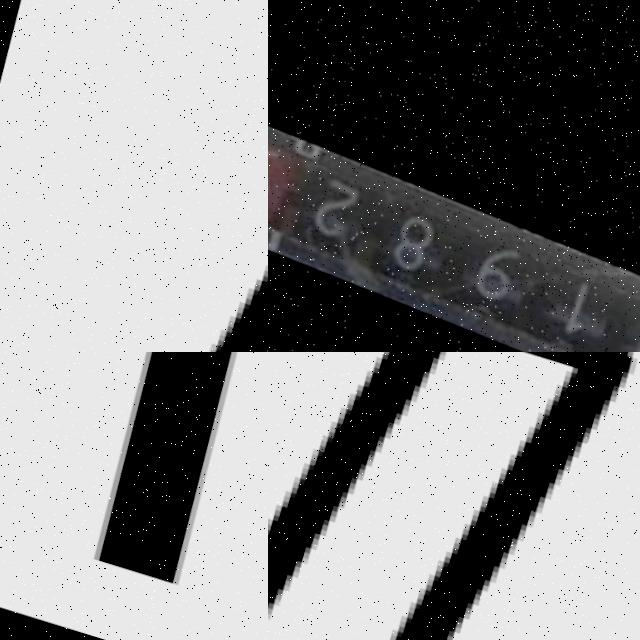0: (268, 352, 640, 640), (619, 309, 640, 352)
1: (88, 0, 268, 352), (548, 270, 603, 343)
2: (300, 170, 365, 248)
8: (381, 208, 443, 280)
9: (461, 232, 525, 310), (268, 134, 287, 206)
U: (63, 352, 268, 640)
